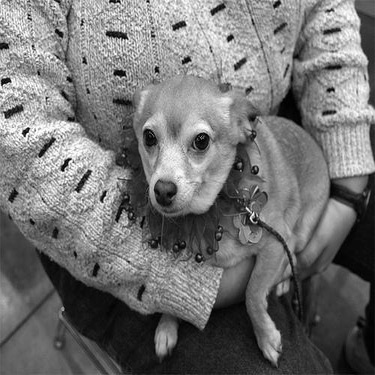dog: (121, 74, 336, 371)
